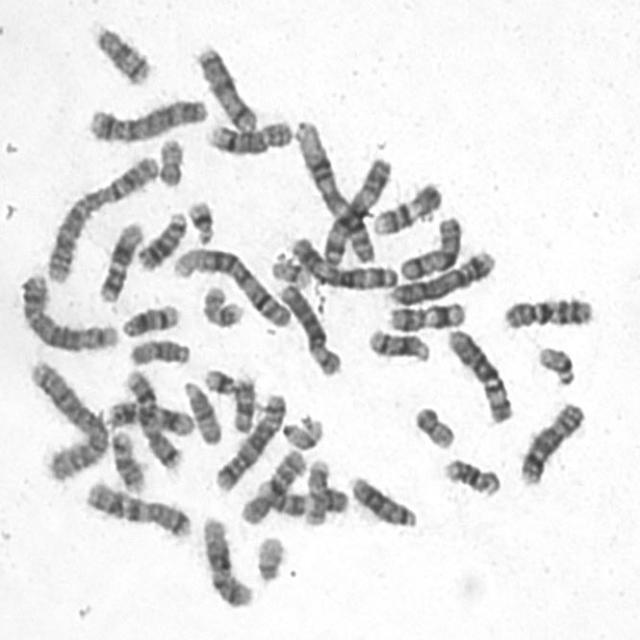A1: (288, 113, 376, 264), (166, 239, 294, 329)
A2: (40, 148, 161, 284), (22, 353, 110, 482)
A3: (316, 151, 392, 268), (285, 230, 400, 291)
B4: (382, 242, 498, 307), (82, 90, 210, 144)
B5: (14, 267, 120, 353), (210, 386, 288, 493)
C10: (234, 443, 308, 527), (496, 289, 596, 331)
C11: (101, 393, 196, 438), (382, 295, 468, 332)
C12: (196, 508, 255, 611), (92, 214, 146, 304)
C6: (442, 321, 515, 425), (272, 276, 344, 379)
C7: (80, 474, 193, 540), (118, 362, 184, 471)
C8: (513, 394, 588, 487), (200, 113, 296, 157)
C9: (366, 175, 444, 237), (251, 473, 352, 518)
D13: (344, 468, 418, 530), (131, 205, 189, 272)
D14: (362, 322, 432, 364), (119, 302, 181, 340)
D15: (177, 374, 223, 446), (123, 332, 193, 368)
E16: (438, 451, 502, 498), (106, 423, 148, 494)
E17: (196, 278, 246, 329), (298, 454, 332, 528)
E18: (93, 26, 153, 86), (227, 370, 258, 434)
F19: (276, 408, 326, 451), (271, 258, 314, 290)
F20: (408, 400, 457, 450), (152, 130, 186, 188)
G21: (182, 193, 217, 246), (198, 360, 239, 398)
G22: (532, 340, 578, 388), (250, 529, 288, 584)
X: (189, 38, 260, 134), (394, 208, 464, 282)
